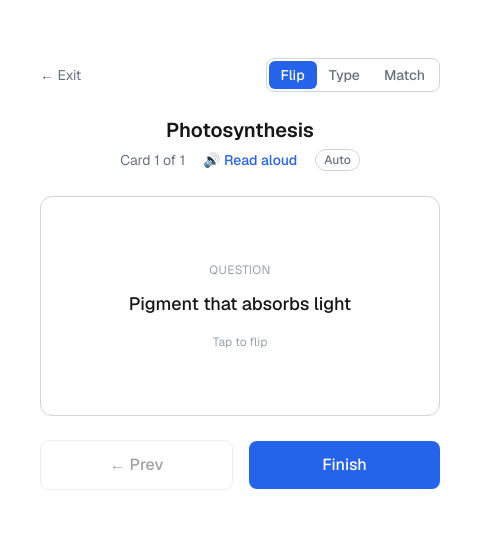
Test case: saving study results (#57) › shows the server's reason when the score can't be saved
Click the button "Question Pigment that absorbs light Tap to flip" at {"x": 240, "y": 306}, box 40,196 -> 440,416
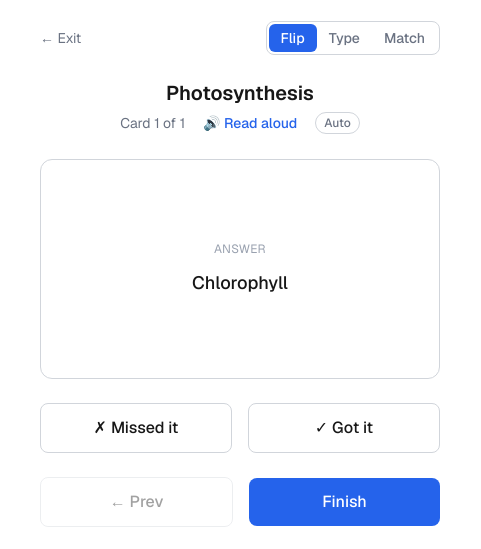
Click the button "✓ Got it" at {"x": 344, "y": 428}, box 248,403 -> 440,453
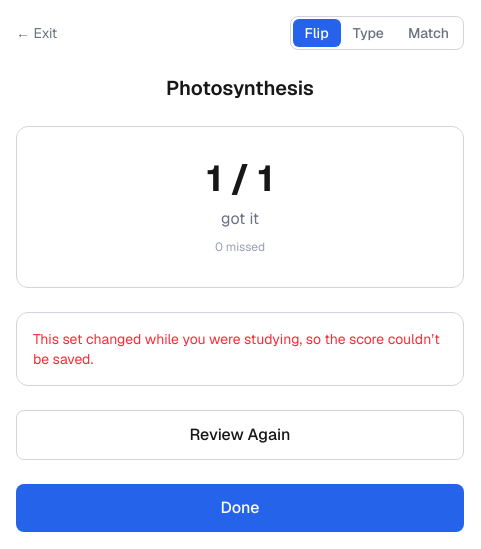
Now the message reads "This set changed while you were studying, so the score couldn’t be saved.", box 33,330 -> 440,368
